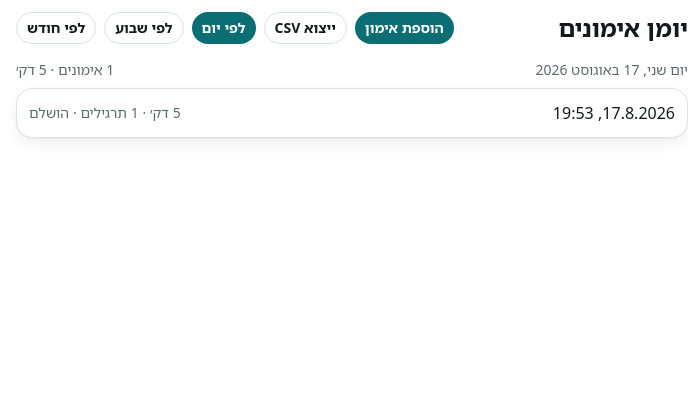
Test: JournalPage › updates a session status from the journal row
The image size is (700, 406).
Click the button "17.8.2026, 19:53 5 דק׳ · 1 תרגילים · הושלם". click: (573, 113)
box: [29,101,675,125]
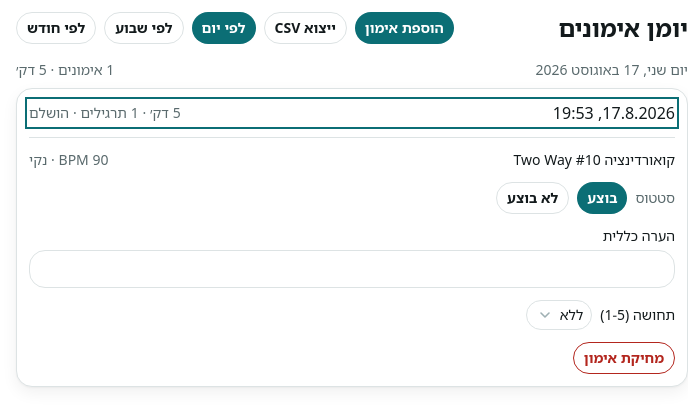
Click the button "לא בוצע". click: (533, 198)
box: [496,182,569,214]
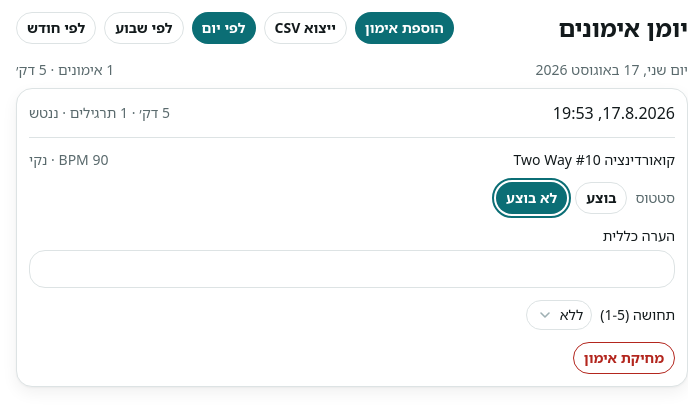
Now the text "5 דק׳ · 1 תרגילים · ננטש" is shown, box [29,103,170,123]
